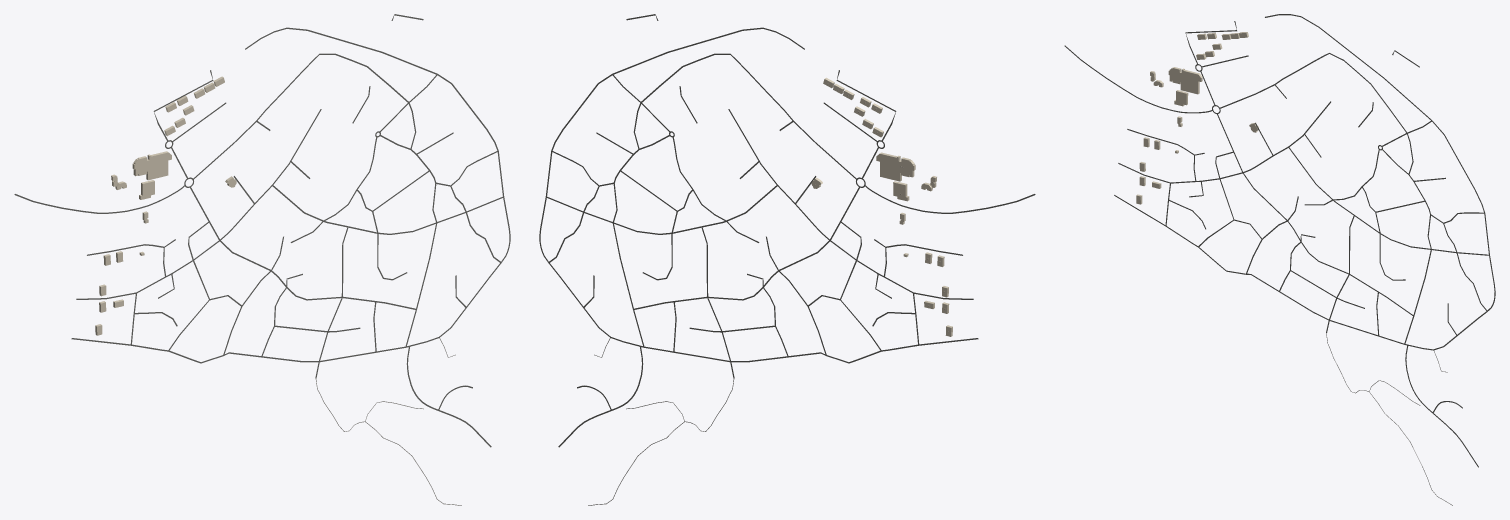
The model's file is historic-palestine-14_35_3559_3296.glb.
3 views of the same model, side by side, from view 1: azimuth 30°, elevation 25°; view 2: azimuth 150°, elevation 25°; view 3: azimuth 330°, elevation 25° (orthographic). The views are drawn at different scales.
Parts seen in each view (by area): view 1: Road البيادر, Building_.015, Road القدس, Road ابن سينا.001; view 2: Road البيادر, Building_.015, Road القدس, Road ابن سينا.001; view 3: Road البيادر, Building_.015.
Part boxes in pixels (x1,y1,x2,y2): Road البيادر: (71, 27, 510, 363); Building_.015: (132, 151, 171, 180); Road القدس: (76, 109, 321, 299); Road ابن سينا.001: (190, 187, 415, 309); Road البيادر: (539, 27, 978, 363); Building_.015: (876, 152, 915, 181); Road القدس: (728, 109, 973, 299); Road ابن سينا.001: (634, 187, 859, 309); Road البيادر: (1114, 14, 1495, 350); Building_.015: (1168, 67, 1202, 94).
Bounding box in the file's own units: 1253 × 1257 × 8.7.
